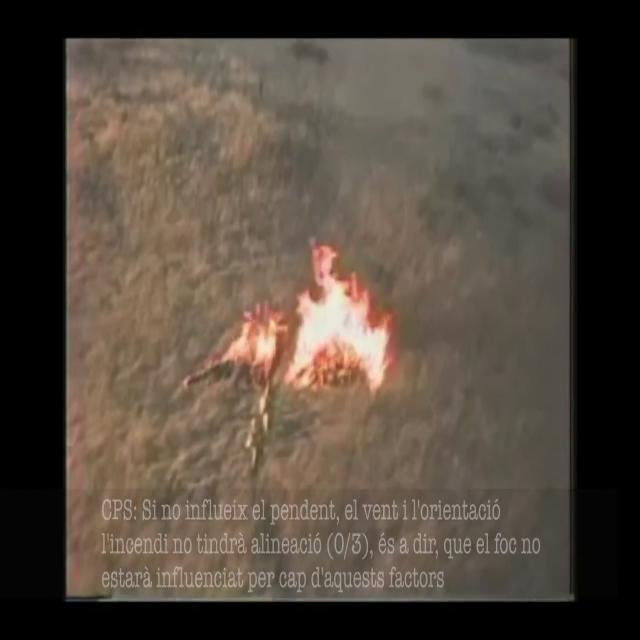Fire: (226, 244, 400, 397)
